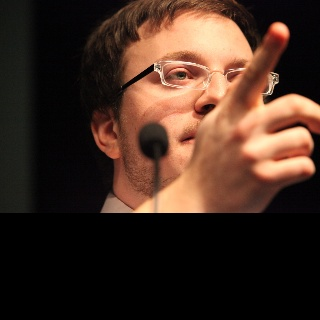without_mask: (111, 8, 265, 198)
